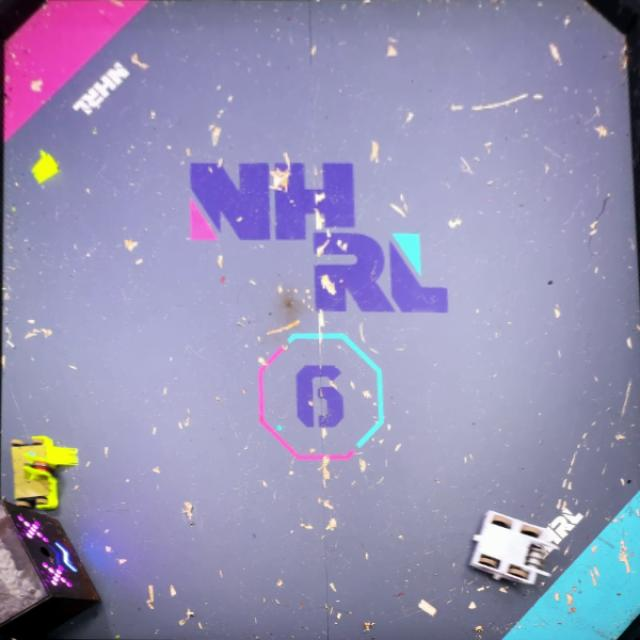housebot: (0, 499, 103, 640)
robot: (470, 510, 560, 587), (11, 435, 78, 510)
